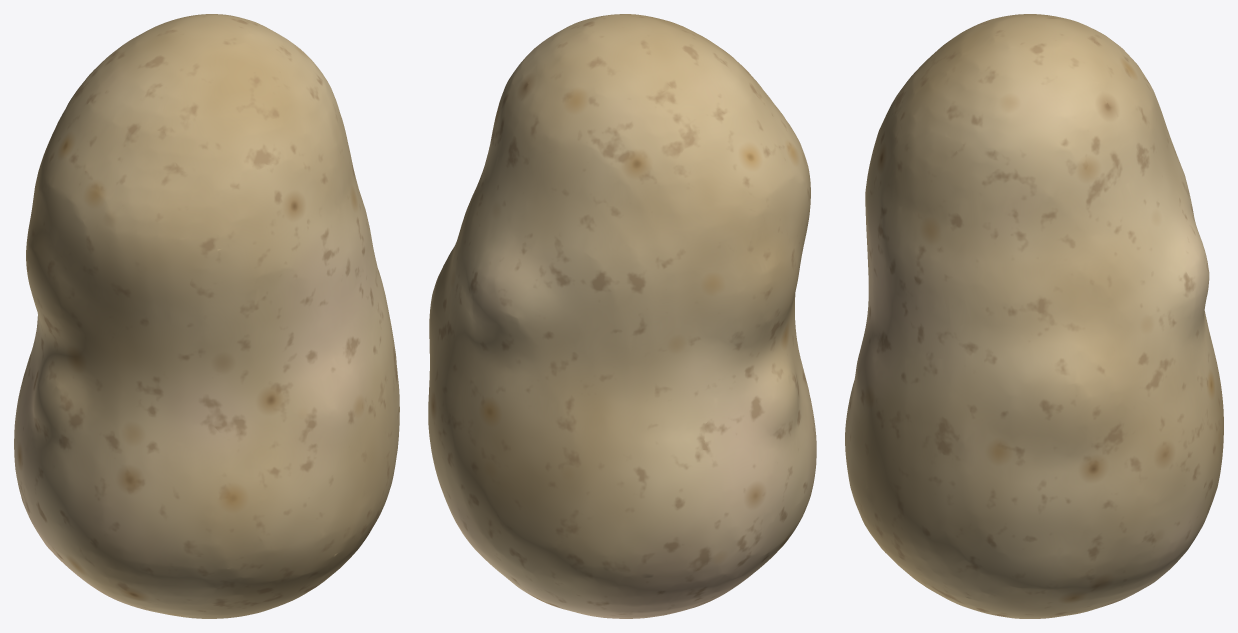
Rendered from potato.glb.
3 views of the same model, side by side, from view 1: azimuth 30°, elevation 25°; view 2: azimuth 150°, elevation 25°; view 3: azimuth 270°, elevation 25° (orthographic).
Visible parts, largest first — view 1: Potato; view 2: Potato; view 3: Potato.
Boxes of the visible parts, left/top/right/bottom form: Potato: left=14, top=14, right=399, bottom=618; Potato: left=428, top=14, right=816, bottom=618; Potato: left=845, top=14, right=1223, bottom=618.
Bounding box in the file's own units: 0.7378 × 1.19 × 0.7136.
Materials: 1 (1 with a texture image).
